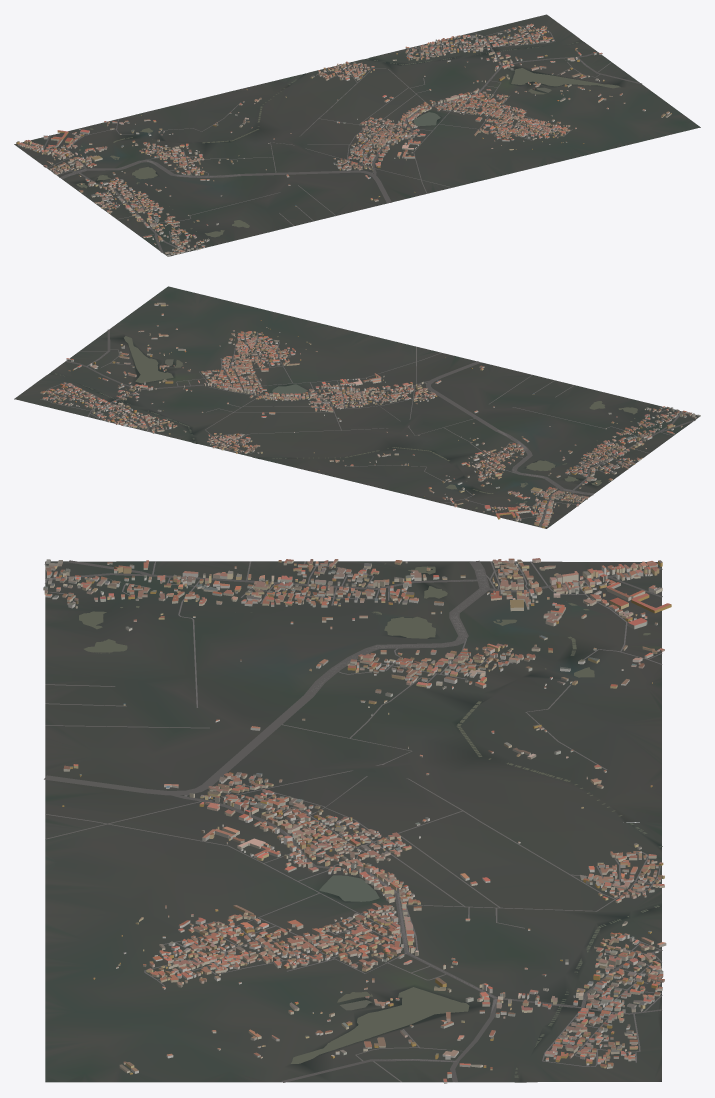
3 renders of one model, top to bottom at view 1: azimuth 30°, elevation 25°; view 2: azimuth 150°, elevation 25°; view 3: azimuth 270°, elevation 25°, orthographic. The views are drawn at different scales.
Visible parts, largest first — view 1: ground, buildings, roads, water; view 2: ground, buildings, roads, water; view 3: ground, buildings, roads, water.
Boxes of the visible parts, x1=… form: ground: x1=14, y1=14, x2=700, y2=255; buildings: x1=16, y1=23, x2=671, y2=256; roads: x1=21, y1=24, x2=641, y2=256; water: x1=76, y1=42, x2=620, y2=237; ground: x1=14, y1=286, x2=698, y2=528; buildings: x1=40, y1=302, x2=700, y2=528; roads: x1=40, y1=329, x2=695, y2=527; water: x1=55, y1=336, x2=637, y2=508; ground: x1=45, y1=561, x2=661, y2=1082; buildings: x1=43, y1=558, x2=671, y2=1083; roads: x1=44, y1=560, x2=662, y2=1082; water: x1=79, y1=563, x2=662, y2=1077.
Size of the model in its own units: 2811 by 25.4 by 1428.
